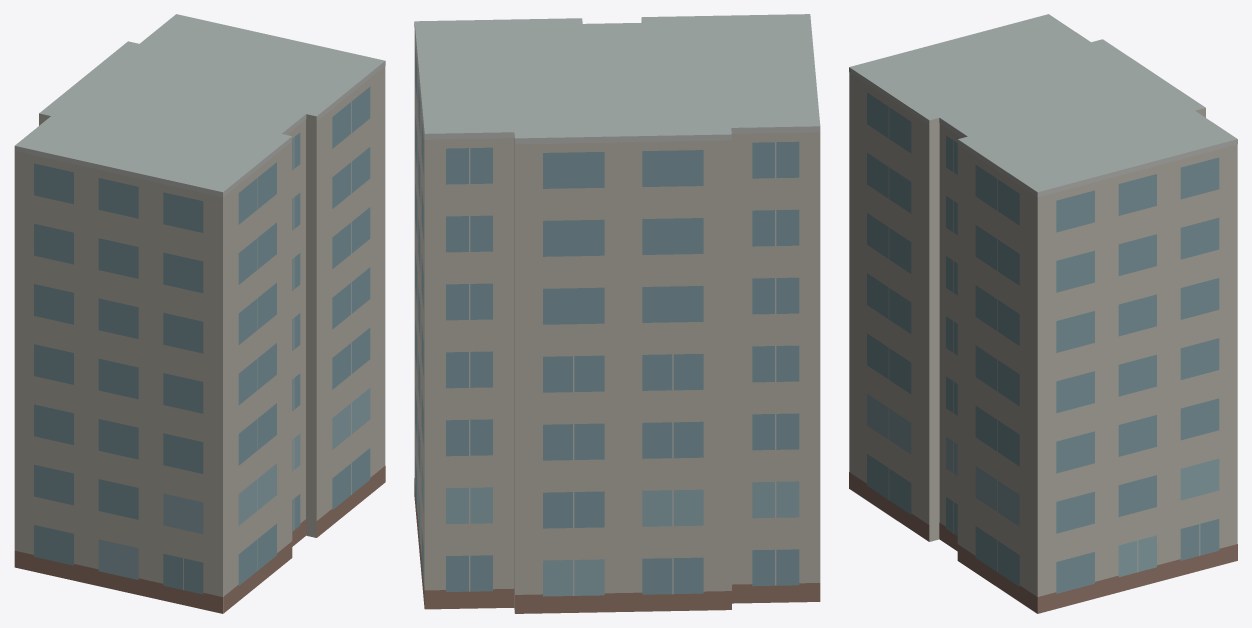
Rendered from survey-upis-32671806.glb.
3 views of the same model, side by side, from view 1: azimuth 30°, elevation 25°; view 2: azimuth 150°, elevation 25°; view 3: azimuth 270°, elevation 25° (orthographic). The views are drawn at different scales.
Visible parts, largest first — view 1: survey-upis-32671806.tmp; view 2: survey-upis-32671806.tmp; view 3: survey-upis-32671806.tmp.
Part boxes in pixels (<box>): survey-upis-32671806.tmp: <box>14,14,385,613</box>; survey-upis-32671806.tmp: <box>414,14,820,613</box>; survey-upis-32671806.tmp: <box>849,14,1237,613</box>.
Size of the model in its own units: 18.05 by 19.9 by 16.64.
